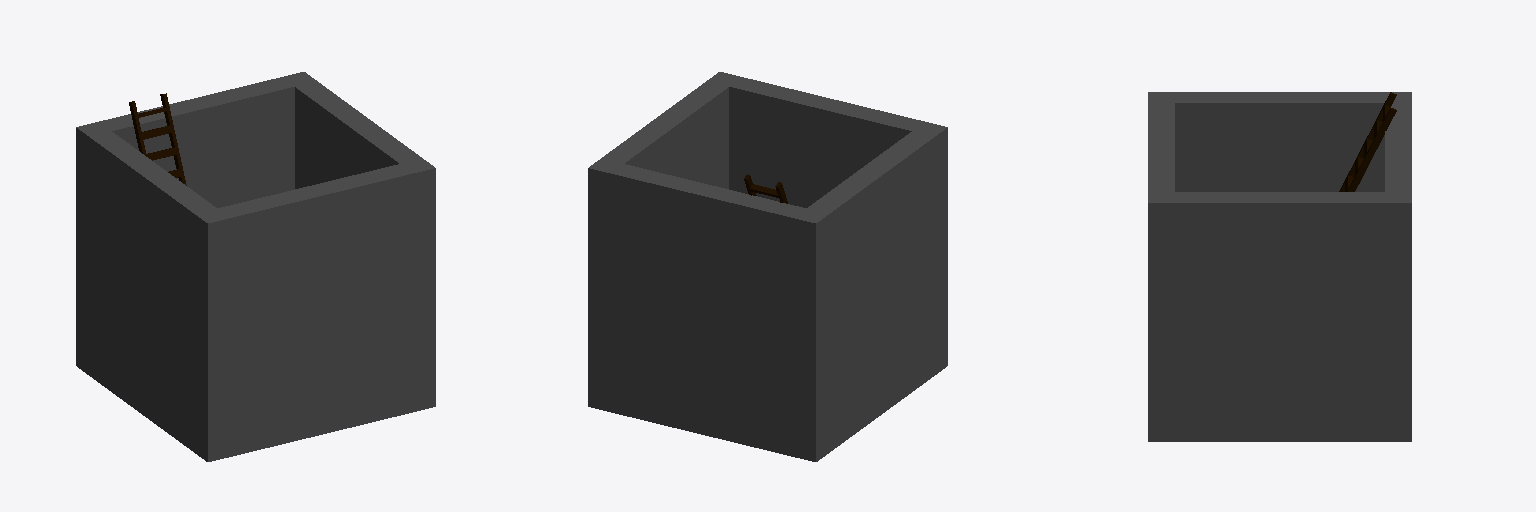
File: Quarry4.obj
The picture shows the model from 3 angles: view 1: azimuth 30°, elevation 25°; view 2: azimuth 150°, elevation 25°; view 3: azimuth 270°, elevation 25°; orthographic projection.
Visible parts, largest first — view 1: Tilebase121, Ladder002; view 2: Tilebase121; view 3: Tilebase121, Ladder002.
Boxes of the visible parts, x1,y1,x2,y2 form: Tilebase121: [76, 72, 435, 461]; Ladder002: [129, 93, 186, 185]; Tilebase121: [588, 72, 947, 461]; Tilebase121: [1148, 92, 1411, 441]; Ladder002: [1339, 92, 1396, 191].
Size of the model in its own units: 10 by 10.92 by 10.